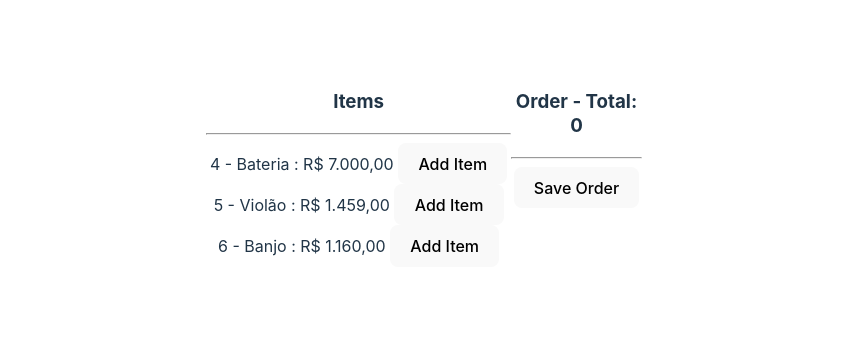
Test case: Deve criar o componente PlaceOrderView
Expected: the element showing "4 - Bateria : R$ 7.000,00 Add Item" is shown, [206,143,511,184]
Expected: the element showing "5 - Violão : R$ 1.459,00 Add Item" is shown, [206,184,511,225]
Click the button with id "bt-add-item" at (453, 164), box [398,143,507,184]
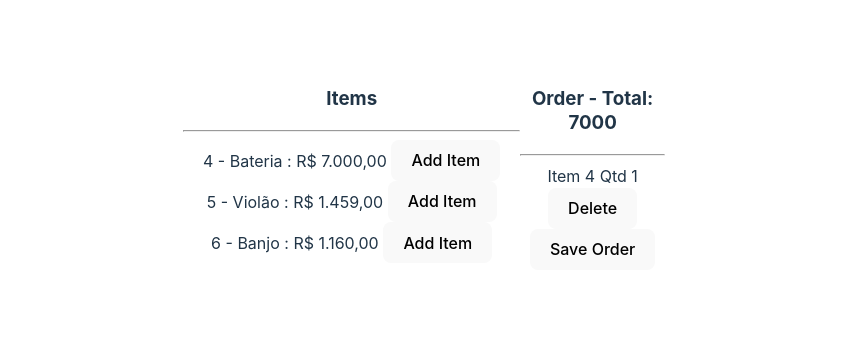
Expected: the text with id "order-total" reads "7000", [568,111,617,134]
Click the button with id "bt-add-item" at (442, 201), box [388,181,497,222]
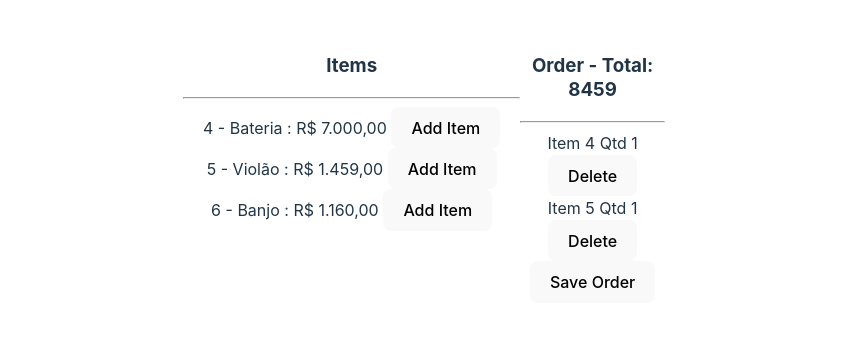
Expected: the text with id "order-total" reads "8459", [568,78,617,101]
Click the button with id "bt-add-item" at (438, 210), box [383,189,492,230]
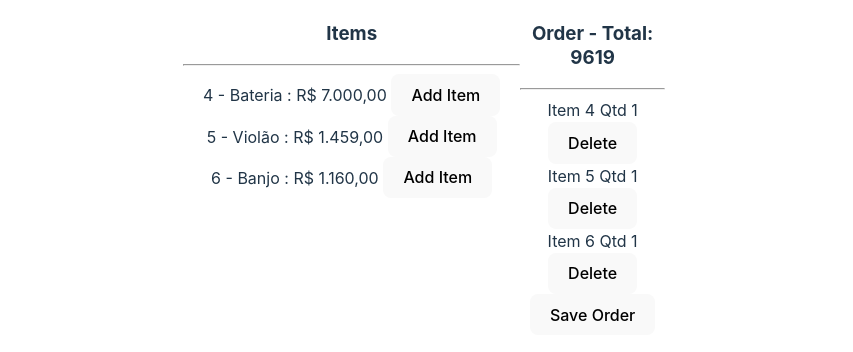
Expected: the text with id "order-total" reads "9619", [570,46,615,69]
Click the button with id "bt-add-item" at (438, 177), box [383,157,492,198]
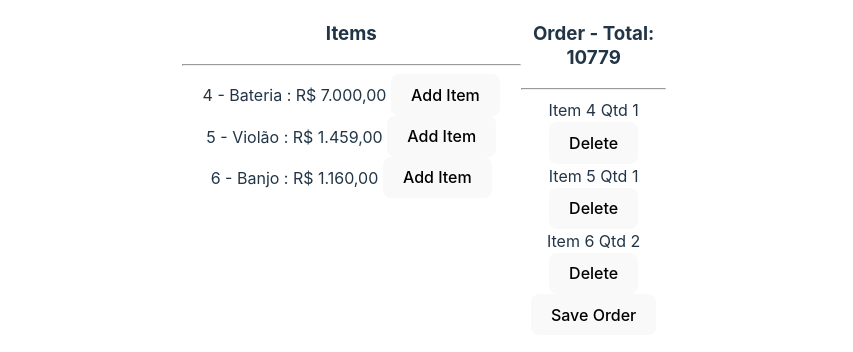
Expected: the text with id "order-total" reads "10779", [566,46,621,69]
Click the button with id "bt-delete-item-6" at (594, 273), box [549,253,638,294]
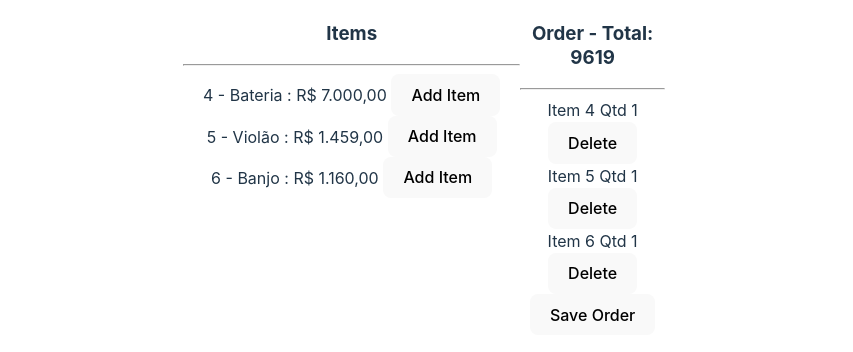
Expected: the text with id "order-total" reads "9619", [570,46,615,69]
Click the button with id "bt-save-order" at (593, 314), box [530,294,655,335]
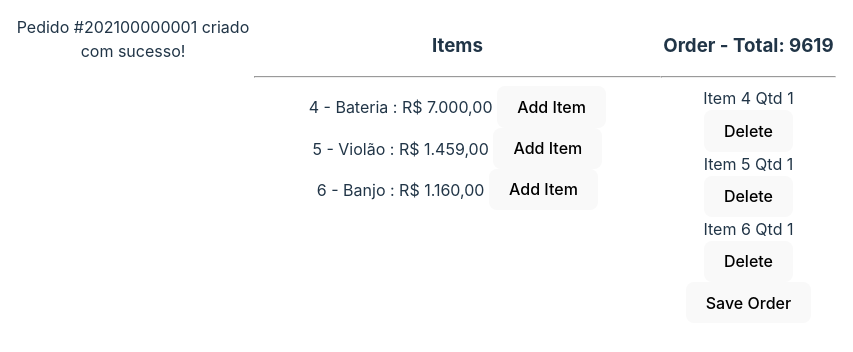
Expected: the text with id "message" reads "Pedido #202100000001 criado com sucesso!", [17,17,249,61]
